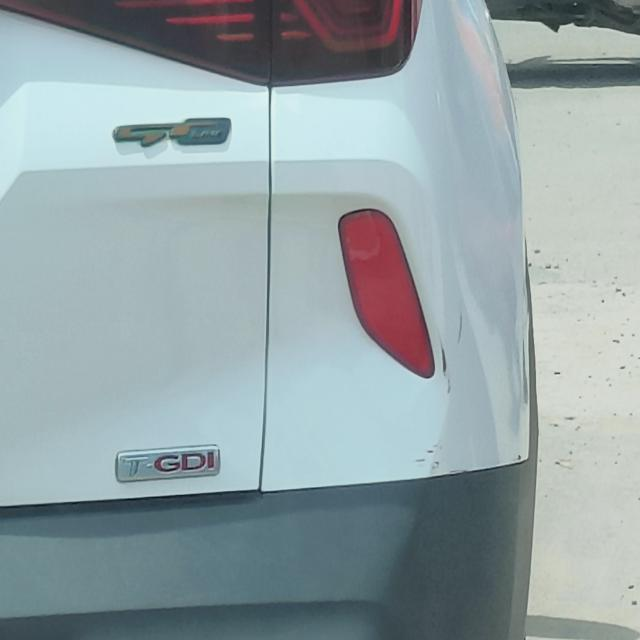scratch: (430, 298, 481, 406), (414, 433, 464, 479)
